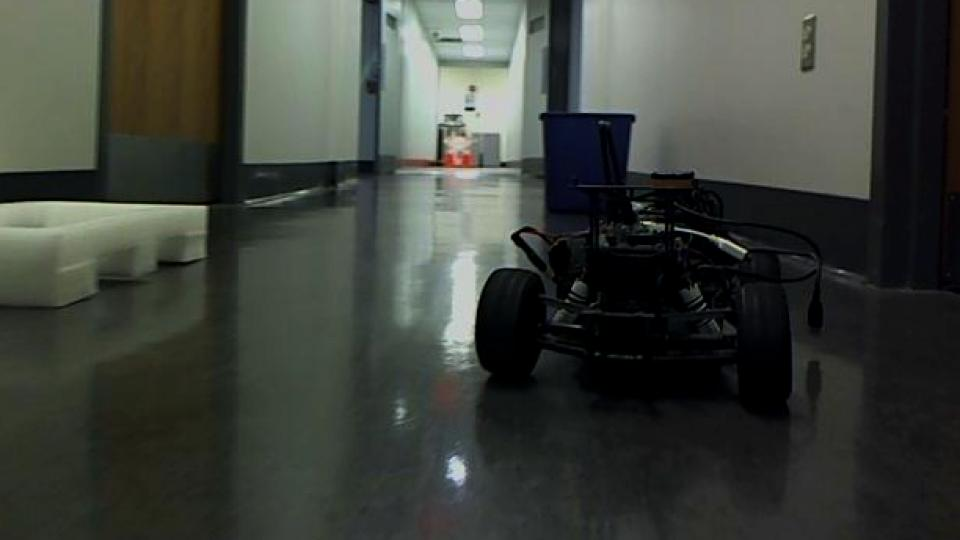car: (472, 112, 828, 412)
